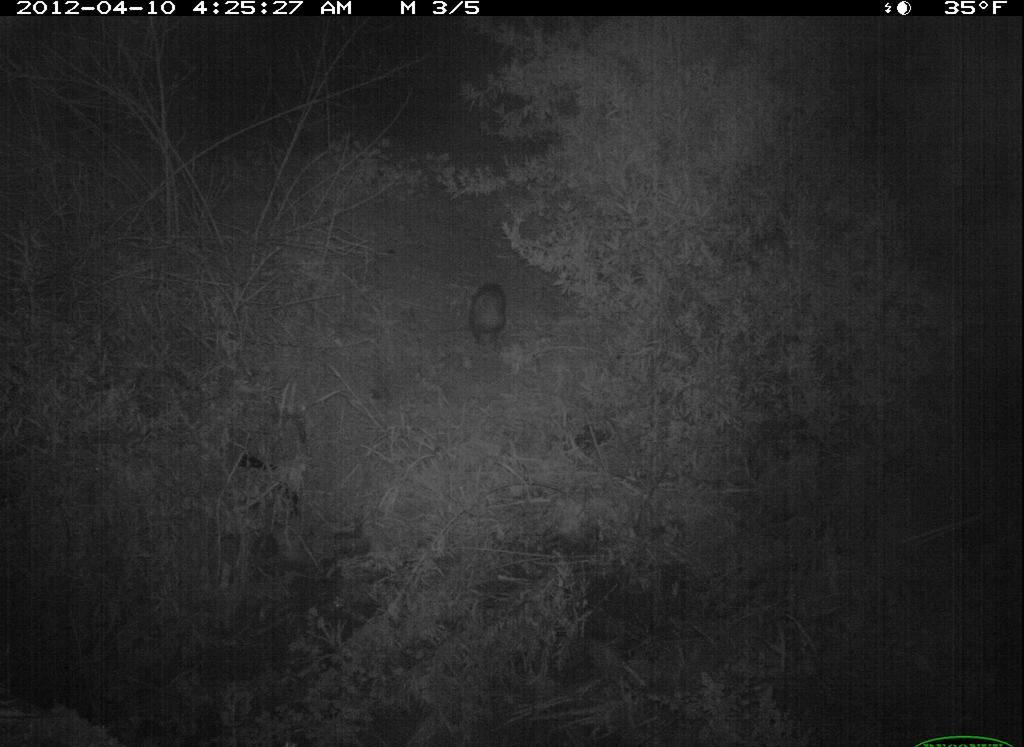opossum: (456, 269, 524, 351)
